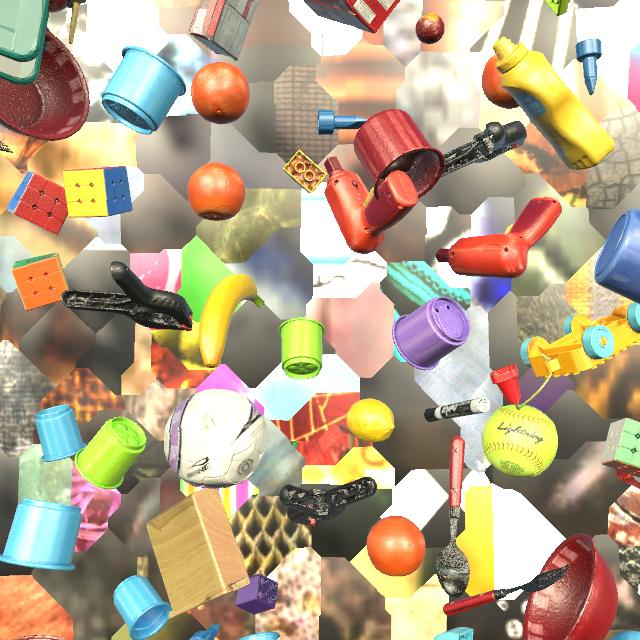ycb_003_cracker_box: (303, 0, 400, 34), (616, 418, 640, 489)
ycb_006_mustard_bottle: (492, 37, 615, 170)
ycb_008_pudding_box: (188, 0, 259, 61)
ycb_011_banana: (199, 274, 264, 368)
ycb_014_lemon: (346, 399, 395, 443)
ycb_017_orange: (191, 62, 250, 124), (367, 515, 426, 577), (188, 162, 245, 221), (482, 55, 520, 109)
